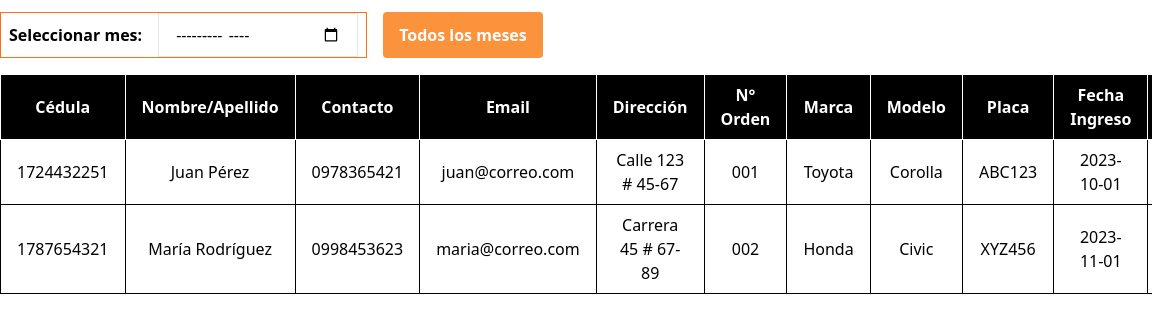
it: TablaClientes › should show 'No existen registros' when no clients match the selected month
This screenshot has width=1152, height=311.
Note: Seleccionar un mes que no tenga registros
Type "2023-09" into the field with test id "mes" at (258, 35), box [158,13,358,57]
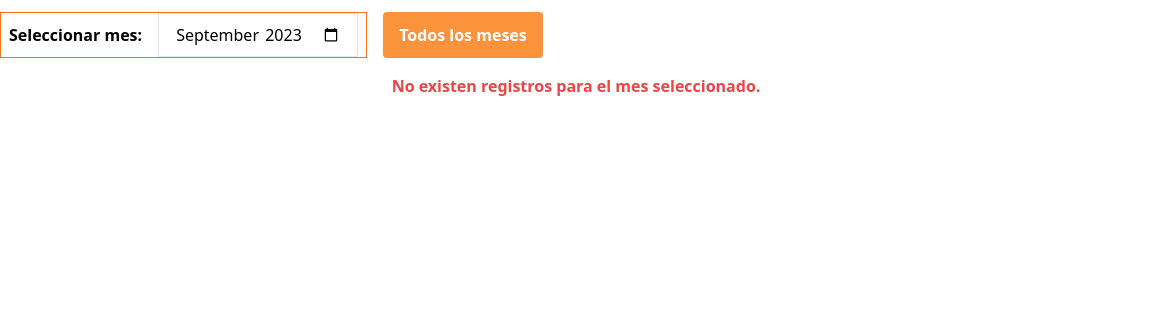
Result: the text "No existen registros para el mes seleccionado." is shown at [392,75,760,97]
